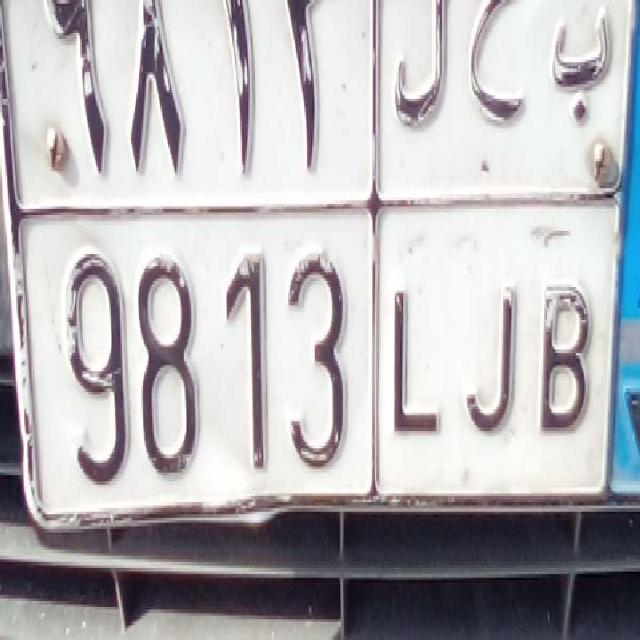license_plate: (50, 218, 598, 507)
